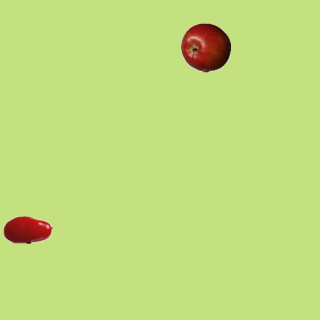Apple Braeburn: (180, 22, 230, 72)
Tomato 2: (2, 204, 52, 254)
